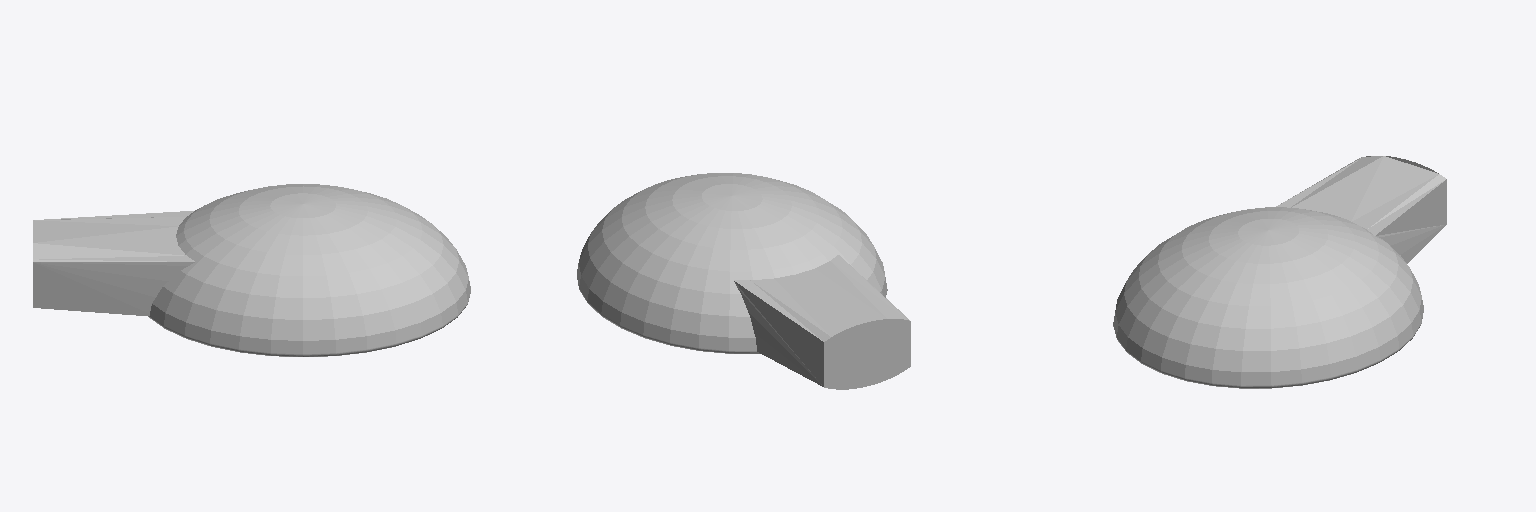
Rendered from castanhola_cima.obj.
3 renders of one model, left to right at view 1: azimuth 30°, elevation 25°; view 2: azimuth 150°, elevation 25°; view 3: azimuth 270°, elevation 25°, orthographic.
Parts seen in each view (by area): view 1: Cube.001; view 2: Cube.001; view 3: Cube.001.
Boxes of the visible parts, box(x1,y1,x2,y2) form: Cube.001: box(33, 184, 470, 356); Cube.001: box(577, 173, 910, 389); Cube.001: box(1113, 156, 1446, 388).
Bounding box in the file's own units: 2.08 × 0.5 × 1.65.